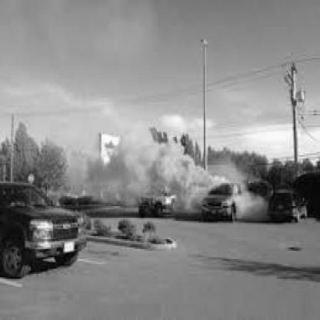Smoke: (236, 181, 266, 214)
